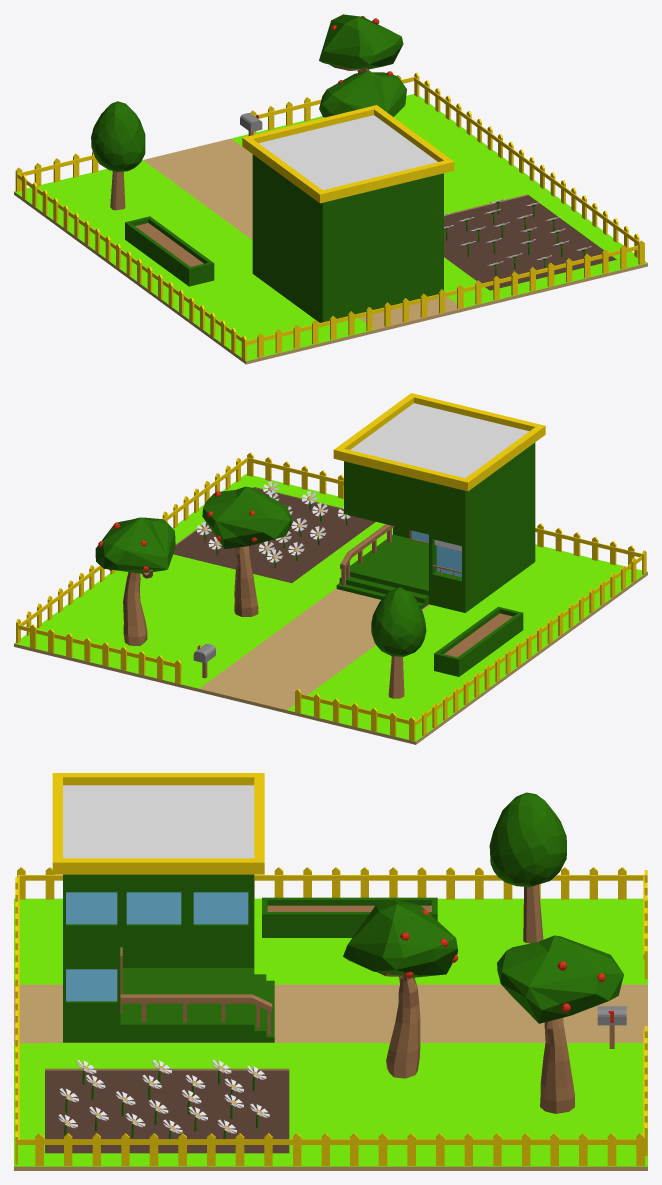
Rendered from Casa_4.fbx.
3 views of the same model, one above another, from view 1: azimuth 30°, elevation 25°; view 2: azimuth 150°, elevation 25°; view 3: azimuth 270°, elevation 25° (orthographic). The views are drawn at different scales.
Visible parts, largest first — view 1: Chao 4, Corpo, Cerca.006, Folhas.003, Canteiro, Folhas 3.001, Folhas.002, Tronco 3.001; view 2: Chao 4, Corpo, Cerca.006, Folhas.002, Folhas.003, Canteiro, Folhas 3.001, Tronco.003, Tronco.002, Corrimao, Tronco 3.001; view 3: Chao 4, Corpo, Cerca.006, Folhas.003, Folhas.002, Folhas 3.001, Canteiro, Tronco.002, Tronco.003, Corrimao, Tronco 3.001, Caixa de Correio.
Boxes of the visible parts, left/top/right/bottom form: Chao 4: left=14, top=94, right=647, bottom=364; Corpo: left=242, top=105, right=454, bottom=322; Cerca.006: left=15, top=72, right=644, bottom=360; Folhas.003: left=319, top=14, right=403, bottom=69; Canteiro: left=125, top=216, right=214, bottom=286; Folhas 3.001: left=91, top=101, right=145, bottom=171; Folhas.002: left=319, top=71, right=406, bottom=117; Tronco 3.001: left=110, top=171, right=125, bottom=210; Chao 4: left=14, top=474, right=647, bottom=744; Corpo: left=333, top=393, right=545, bottom=612; Cerca.006: left=16, top=452, right=646, bottom=740; Folhas.002: left=202, top=486, right=292, bottom=548; Folhas.003: left=95, top=517, right=175, bottom=573; Canteiro: left=434, top=606, right=523, bottom=676; Folhas 3.001: left=371, top=587, right=426, bottom=656; Tronco.003: left=123, top=569, right=152, bottom=646; Tronco.002: left=234, top=546, right=258, bottom=616; Corrimao: left=340, top=524, right=394, bottom=585; Tronco 3.001: left=388, top=656, right=404, bottom=698; Chao 4: left=14, top=898, right=647, bottom=1170; Corpo: left=52, top=773, right=274, bottom=1042; Cerca.006: left=15, top=867, right=647, bottom=1165; Folhas.003: left=497, top=935, right=623, bottom=1023; Folhas.002: left=343, top=899, right=457, bottom=977; Folhas 3.001: left=489, top=792, right=566, bottom=887; Canteiro: left=262, top=897, right=437, bottom=937; Tronco.002: left=377, top=972, right=420, bottom=1078; Tronco.003: left=540, top=1018, right=574, bottom=1113; Corrimao: left=120, top=994, right=272, bottom=1035; Tronco 3.001: left=523, top=884, right=543, bottom=943; Caixa de Correio: left=597, top=1006, right=626, bottom=1048.
Size of the model in its own units: 649 by 649 by 214.
